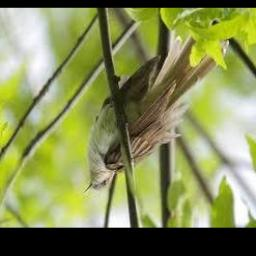Cuckoo: (83, 36, 229, 195)
